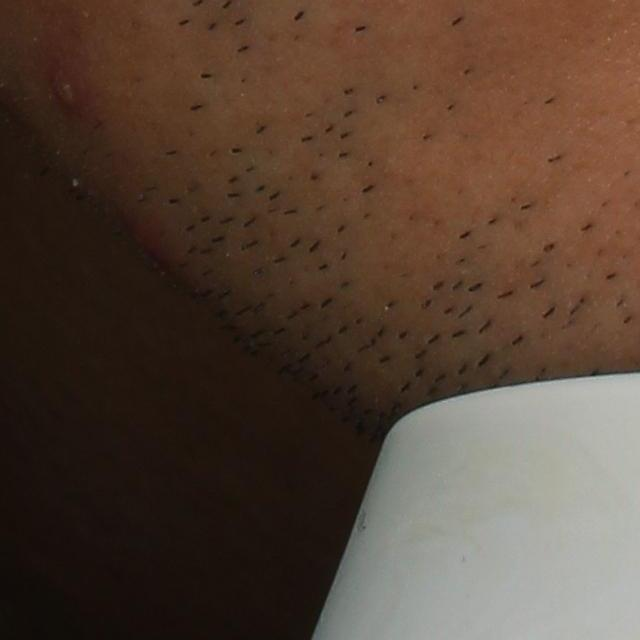pustule: (48, 63, 81, 115)
